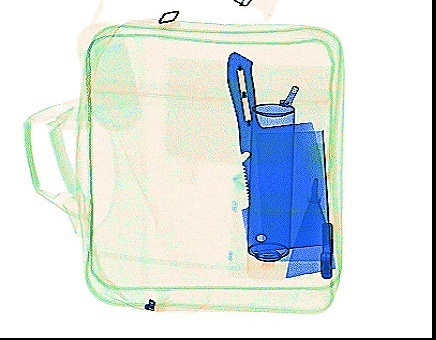knife: (224, 51, 331, 253)
pressure: (245, 102, 295, 262)
